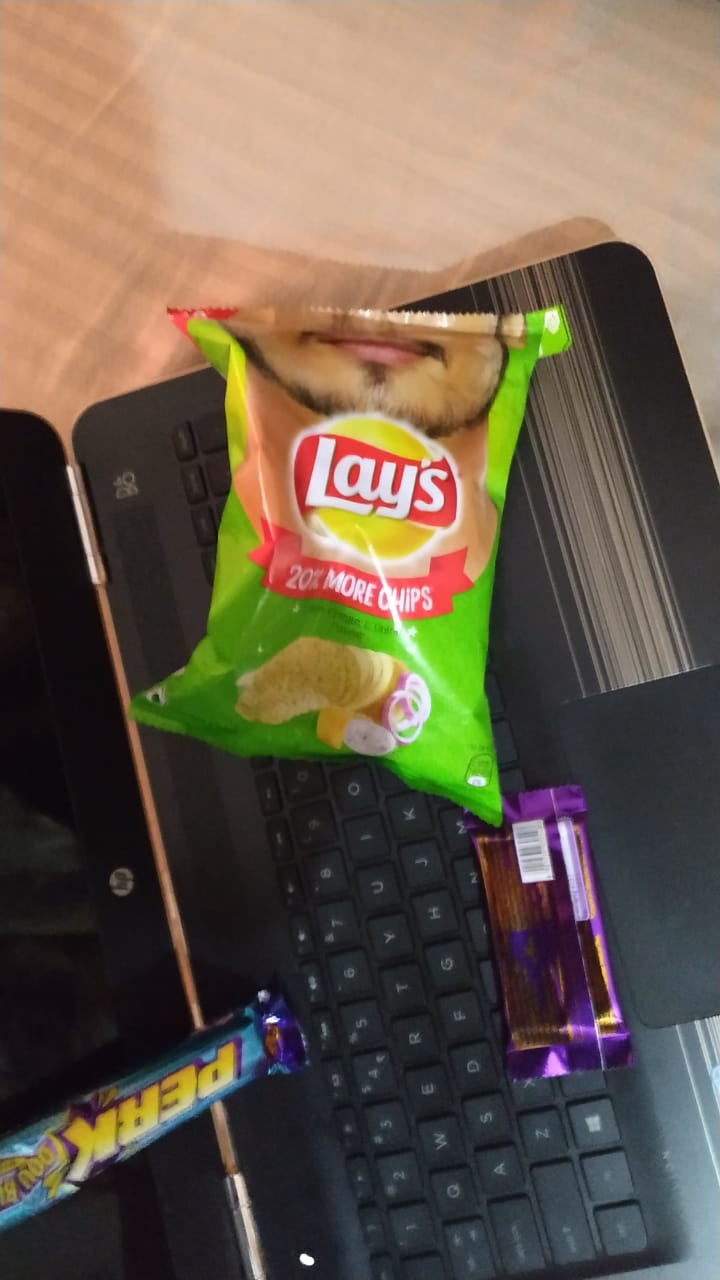dairy milk: (456, 794, 637, 1066)
lays chips: (154, 288, 527, 815)
perk: (1, 999, 309, 1229)
